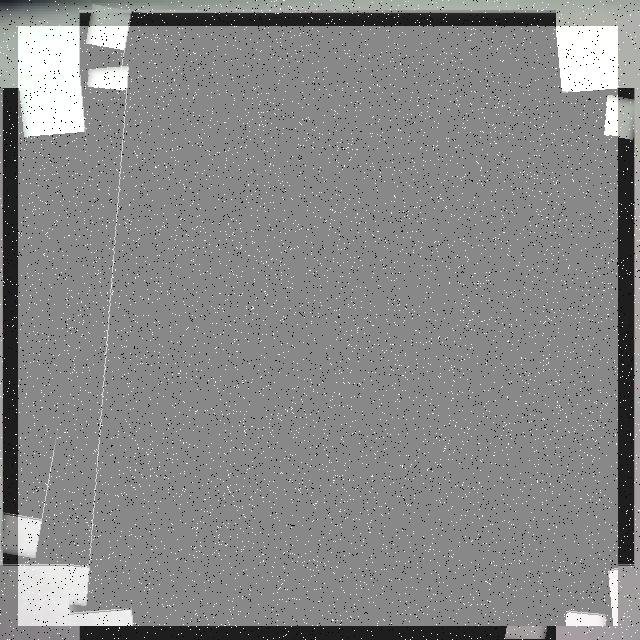dua ribu rupiah: (18, 26, 618, 626)
